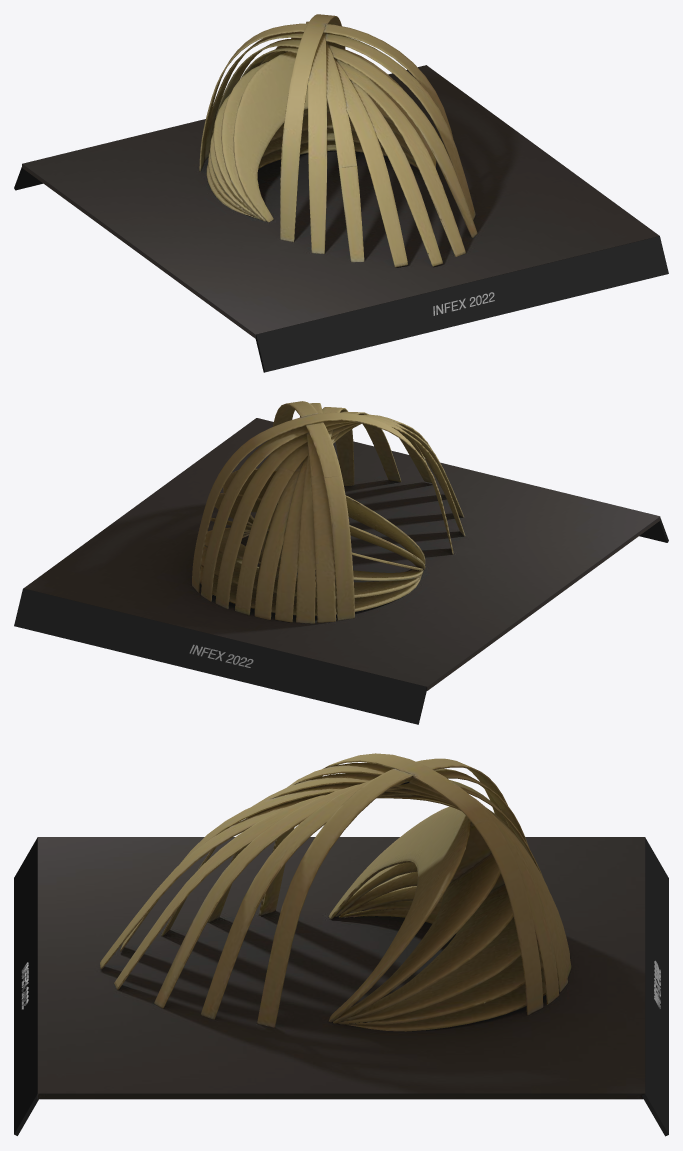
3 renders of one model, top to bottom at view 1: azimuth 30°, elevation 25°; view 2: azimuth 150°, elevation 25°; view 3: azimuth 270°, elevation 25°, orthographic. The views are drawn at different scales.
Parts seen in each view (by area): view 1: Plane.016, Plane.017, Cube; view 2: Plane.016, Plane.017, Cube.001; view 3: Plane.016, Plane.017, Cube.001, Cube.
Boxes of the visible parts, bbox=[...] form: Plane.016: bbox=[22, 65, 659, 338]; Plane.017: bbox=[199, 14, 477, 267]; Cube: bbox=[255, 236, 668, 372]; Plane.016: bbox=[24, 418, 660, 690]; Plane.017: bbox=[192, 401, 465, 623]; Cube.001: bbox=[14, 588, 426, 724]; Plane.016: bbox=[37, 837, 645, 1099]; Plane.017: bbox=[100, 753, 571, 1031]; Cube.001: bbox=[642, 838, 668, 1136]; Cube: bbox=[14, 837, 38, 1135].
Size of the model in its own units: 5.94 by 2.62 by 6.4.
4 materials, 2 textured.
